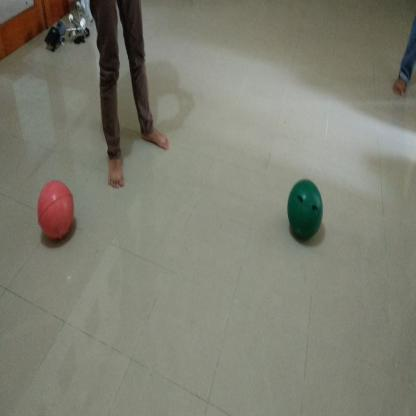green_buoy: (284, 177, 324, 245)
red_buoy: (36, 177, 76, 245)
